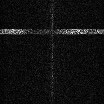wifi: (1, 28, 104, 33)
